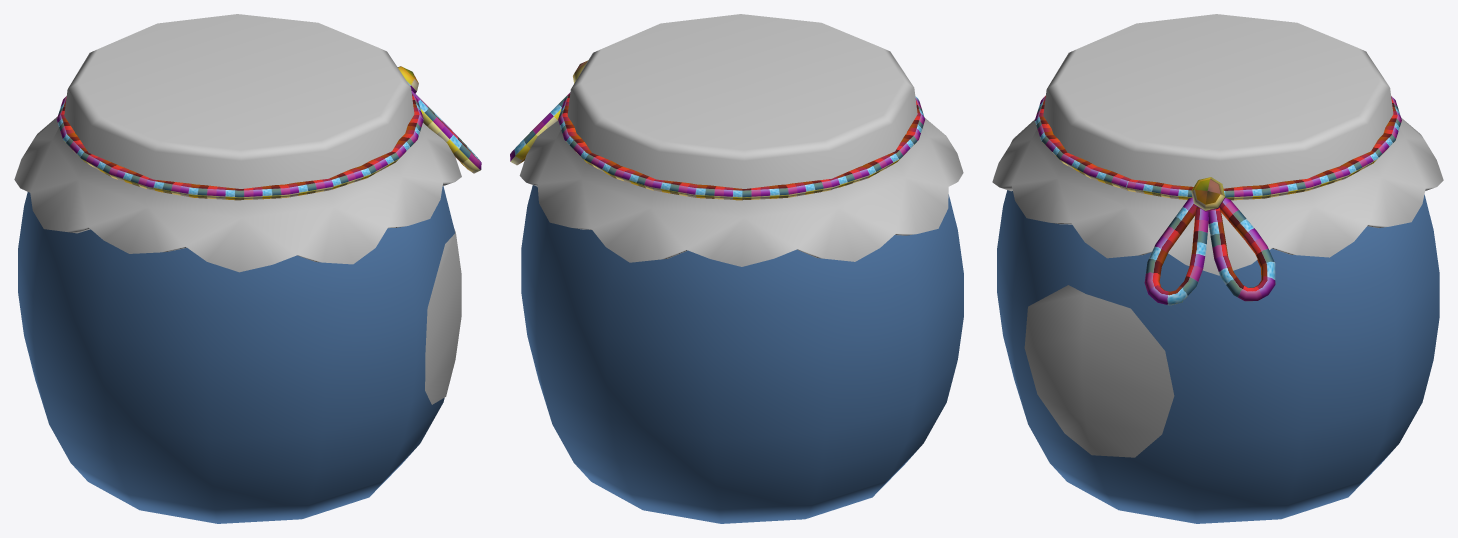
File: SM_Jar_0.fbx
3 renders of one model, left to right at view 1: azimuth 30°, elevation 25°; view 2: azimuth 150°, elevation 25°; view 3: azimuth 270°, elevation 25°, orthographic.
Visible parts, largest first — view 1: SM_Jar_0; view 2: SM_Jar_0; view 3: SM_Jar_0.
Part boxes in pixels (<box>): SM_Jar_0: <box>14,14,481,523</box>; SM_Jar_0: <box>510,14,963,523</box>; SM_Jar_0: <box>992,14,1443,523</box>.
Size of the model in its own units: 36.97 by 32.16 by 35.18.
